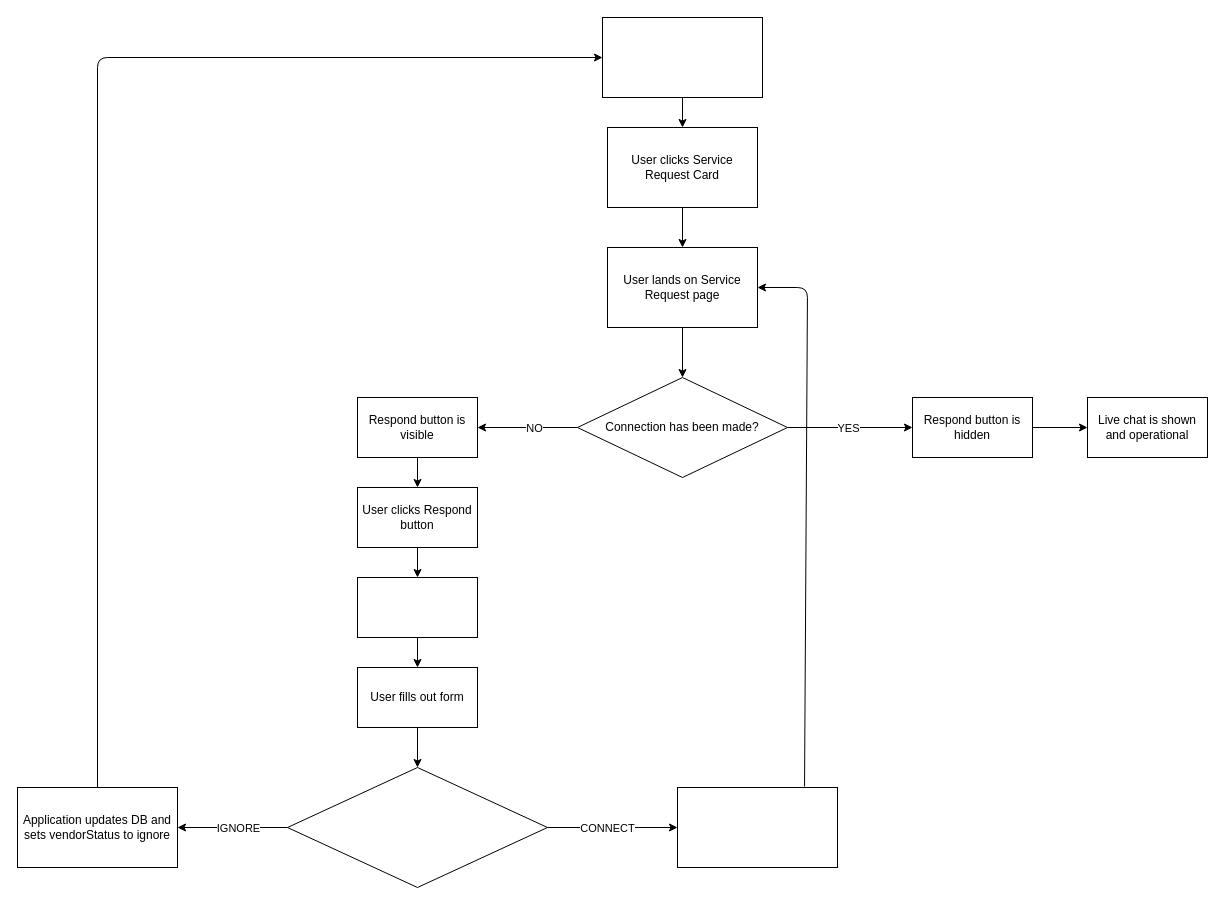
Image size: 1225x905. Some labels were removed from this diagram. The shapes that lost their labels are listed below. From the top down, each one's box as (x1, y1, x2, y2) in pixels, then its label:
(602, 16, 762, 98): User is on Service Request page
(356, 576, 478, 638): Modal Opens
(286, 766, 548, 888): User selects connect or ignore and submits?
(676, 786, 838, 868): Application updated DB and sets vendorStatus to connect
